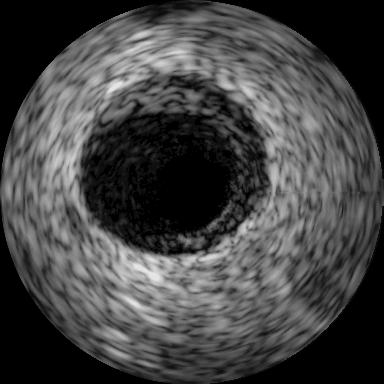Lumen: (149, 143, 236, 231)
